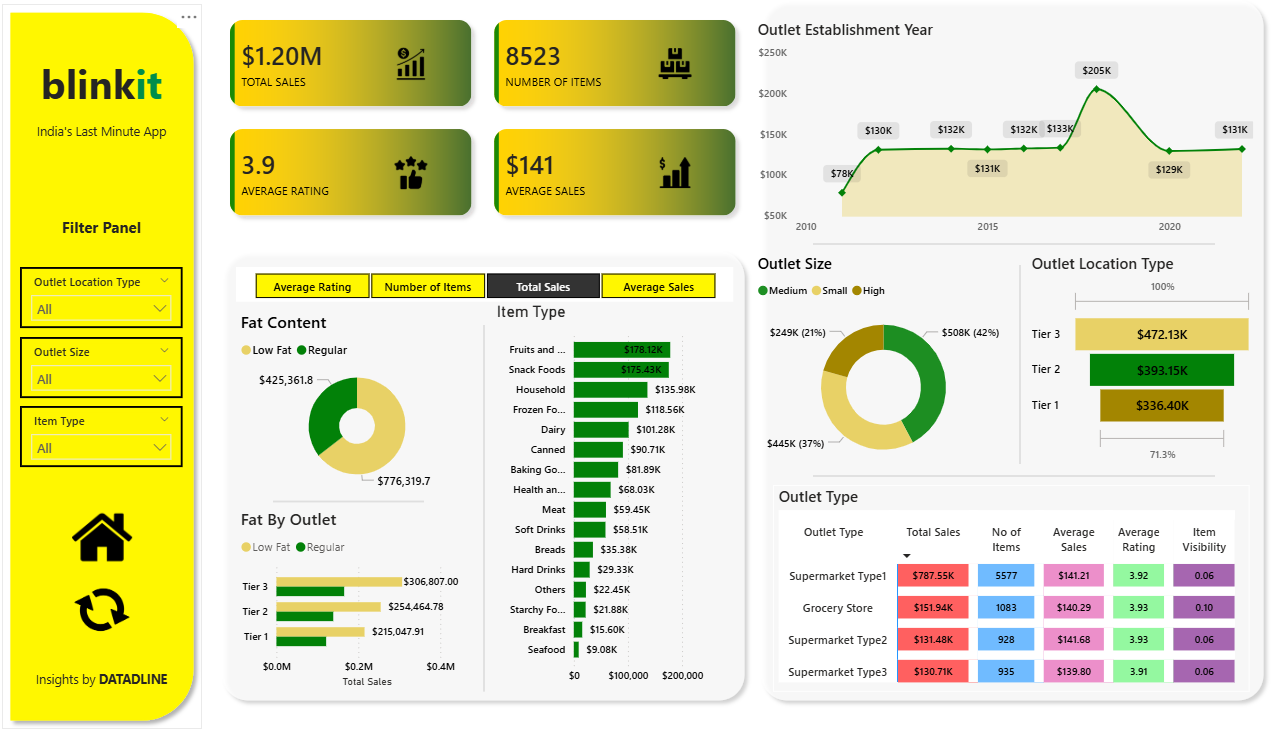

Layout of this report page (visuals, bound fields, positions):
{"tool":"powerbi","page":{"name":"Page 1","canvas":[1400,800],"ordinal":0},"visuals":[{"type":"shape","box":[9.6,12.8,212.8,771.3],"z":0},{"type":"textbox","box":[28.7,62.8,173.4,71.3],"z":1000},{"type":"textbox","box":[28.7,134,173.4,27.7],"z":2000},{"type":"cardVisual","fields":{"Data":["BlinkIT Grocery Data.Total Sales","BlinkIT Grocery Data.Number of Items","BlinkIT Grocery Data.Average Rating","BlinkIT Grocery Data.Average Sales"]},"box":[235.1,12.8,573.4,243.6],"z":3000},{"type":"shape","box":[235.1,267,573.4,495.7],"z":4000},{"type":"donutChart","title":"Fat Content","fields":{"Y":["BlinkIT Grocery Data.Total Sales"],"Category":["BlinkIT Grocery Data.Item Fat Content"]},"box":[258.5,338.3,257.4,195.7],"z":5000},{"type":"slicer","fields":{"Values":["Metrics.Metrics"]},"box":[258.5,292.6,529,37.2],"z":6000},{"type":"clusteredBarChart","title":"Fat By Outlet","fields":{"Y":["BlinkIT Grocery Data.Total Sales"],"Series":["BlinkIT Grocery Data.Item Fat Content"],"Category":["BlinkIT Grocery Data.Outlet Location Type"]},"box":[258.5,547.9,257.4,196.8],"z":7000},{"type":"shape","box":[297.9,534,160.6,16],"z":8000},{"type":"shape","box":[513.8,354.3,17,390.4],"z":9000},{"type":"barChart","title":"Item Type","fields":{"Y":["BlinkIT Grocery Data.Total Sales"],"Category":["BlinkIT Grocery Data.Item Type"]},"box":[530.9,329.8,256.4,414.9],"z":10000},{"type":"shape","box":[808.5,0,552.1,762.8],"z":11000},{"type":"lineChart","title":"Outlet Establishment Year","fields":{"Category":["BlinkIT Grocery Data.Outlet Establishment Year"],"Y":["BlinkIT Grocery Data.Total Sales"]},"box":[808.5,28.7,537.2,238.3],"z":12000},{"type":"donutChart","title":"Outlet Size","fields":{"Y":["BlinkIT Grocery Data.Total Sales"],"Category":["BlinkIT Grocery Data.Outlet Size"]},"box":[808.5,277.7,277.7,237.2],"z":13000},{"type":"shape","box":[872.3,505.3,427.7,19.1],"z":14000},{"type":"shape","box":[1086.2,290.4,12.8,211.7],"z":15000},{"type":"funnel","title":"Outlet Location Type","fields":{"Y":["BlinkIT Grocery Data.Total Sales"],"Category":["BlinkIT Grocery Data.Outlet Location Type"]},"box":[1100,277.7,245.7,227.7],"z":16000},{"type":"shape","box":[872.3,258.5,427.7,19.1],"z":17000},{"type":"pivotTable","title":"Outlet Type","fields":{"Rows":["BlinkIT Grocery Data.Outlet Type"],"Values":["BlinkIT Grocery Data.Total Sales","BlinkIT Grocery Data.Number of Items","BlinkIT Grocery Data.Average Sales","BlinkIT Grocery Data.Average Rating","Avg(BlinkIT Grocery Data.Item Visibility)"]},"box":[829.8,524.5,507.4,220.2],"z":18000},{"type":"slicer","fields":{"Values":["BlinkIT Grocery Data.Outlet Location Type"]},"box":[28.7,292.6,173.4,64.9],"z":19000},{"type":"slicer","fields":{"Values":["BlinkIT Grocery Data.Outlet Size"]},"box":[28.7,367,173.4,64.9],"z":20000},{"type":"slicer","fields":{"Values":["BlinkIT Grocery Data.Item Type"]},"box":[28.7,440.4,173.4,64.9],"z":21000},{"type":"textbox","box":[28.7,234,173.4,33],"z":22000},{"type":"image","box":[84,534,63.8,92.6],"z":23000},{"type":"image","box":[48.9,569.1,134,175.5],"z":24000},{"type":"textbox","box":[28.7,717,173.4,27.7],"z":24001}]}

Visuals, with their boxes in screenshot pixels (x1, y1, x2, y2), scaled from the page's 1400x800 canvas onto the 1283x740 screenshot:
shape: select_region(9, 12, 204, 725)
textbox: select_region(26, 58, 185, 124)
textbox: select_region(26, 124, 185, 150)
cardVisual - BlinkIT Grocery Data.Total Sales x BlinkIT Grocery Data.Number of Items: select_region(215, 12, 741, 237)
shape: select_region(215, 247, 741, 705)
"Fat Content" donutChart: select_region(237, 313, 473, 494)
slicer - Metrics.Metrics: select_region(237, 271, 722, 305)
"Fat By Outlet" clusteredBarChart: select_region(237, 507, 473, 689)
shape: select_region(273, 494, 420, 509)
shape: select_region(471, 328, 486, 689)
"Item Type" barChart: select_region(487, 305, 722, 689)
shape: select_region(741, 0, 1247, 706)
"Outlet Establishment Year" lineChart: select_region(741, 27, 1233, 247)
"Outlet Size" donutChart: select_region(741, 257, 995, 476)
shape: select_region(799, 467, 1191, 485)
shape: select_region(995, 269, 1007, 464)
"Outlet Location Type" funnel: select_region(1008, 257, 1233, 467)
shape: select_region(799, 239, 1191, 257)
"Outlet Type" pivotTable: select_region(760, 485, 1225, 689)
slicer - BlinkIT Grocery Data.Outlet Location Type: select_region(26, 271, 185, 331)
slicer - BlinkIT Grocery Data.Outlet Size: select_region(26, 339, 185, 400)
slicer - BlinkIT Grocery Data.Item Type: select_region(26, 407, 185, 467)
textbox: select_region(26, 216, 185, 247)
image: select_region(77, 494, 135, 580)
image: select_region(45, 526, 168, 689)
textbox: select_region(26, 663, 185, 689)
